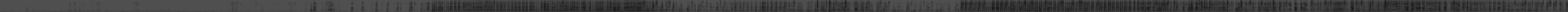Moan: (1195, 0, 1198, 12)
